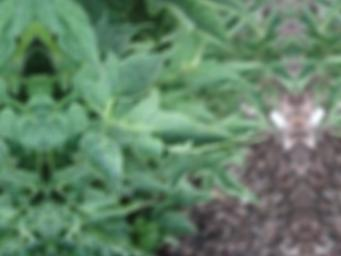Tomato leaf mosaic virus: (118, 88, 254, 163), (93, 38, 184, 111), (33, 0, 101, 75), (75, 128, 130, 211), (65, 101, 87, 137)
